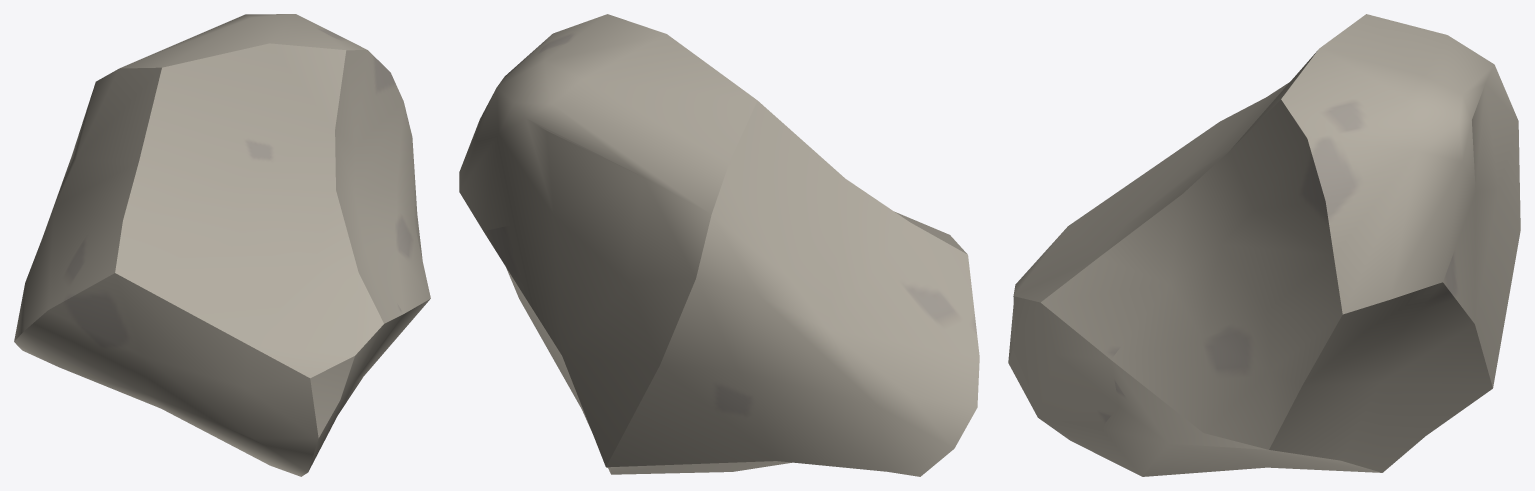
The model's file is Rock 4.fbx.
3 views of the same model, side by side, from view 1: azimuth 30°, elevation 25°; view 2: azimuth 150°, elevation 25°; view 3: azimuth 270°, elevation 25° (orthographic). The views are drawn at different scales.
Visible parts, largest first — view 1: Rock 4; view 2: Rock 4; view 3: Rock 4.
Part boxes in pixels (x1,y1,x2,y2): Rock 4: (14, 14, 430, 476); Rock 4: (459, 14, 979, 476); Rock 4: (1008, 14, 1520, 476).
Bounding box in the file's own units: 191 × 166 × 170.
